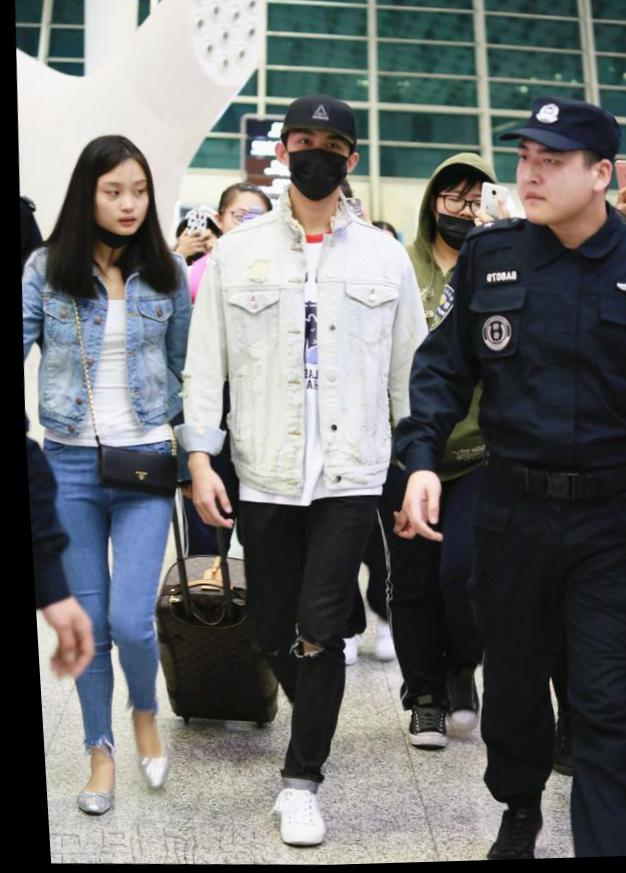NONE: (512, 137, 583, 231), (90, 167, 150, 240)
OK: (282, 126, 353, 203)
WRONG: (431, 182, 494, 255)
